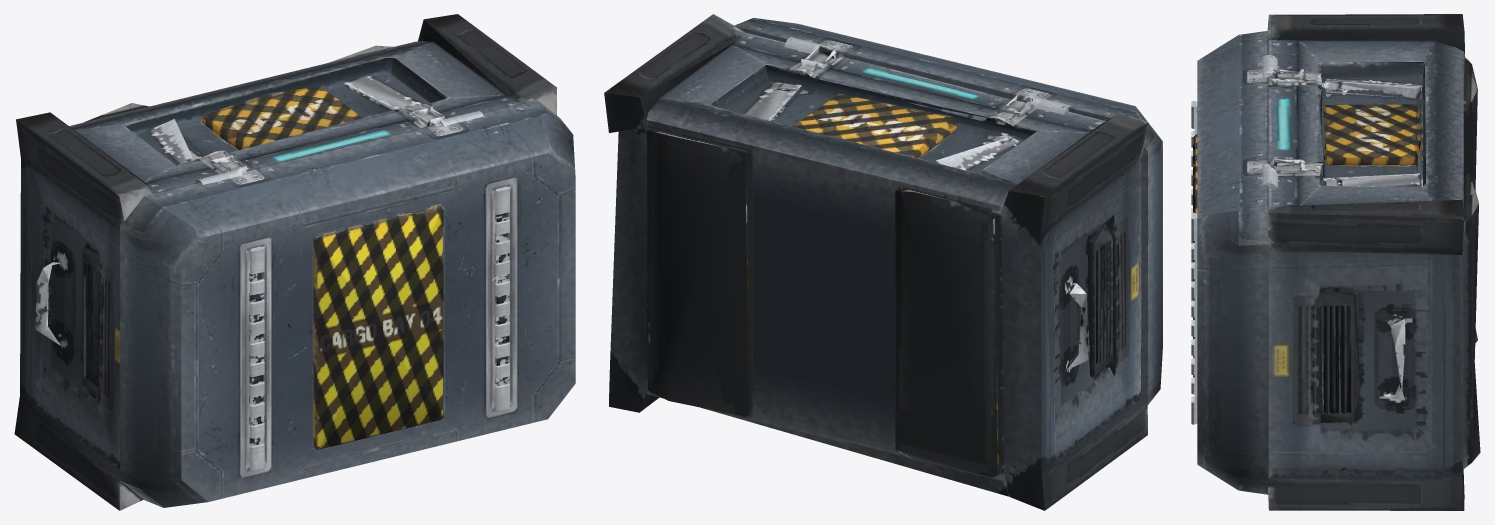
The model's file is sci_fi_crate_LOD1.glb.
3 renders of one model, left to right at view 1: azimuth 30°, elevation 25°; view 2: azimuth 150°, elevation 25°; view 3: azimuth 270°, elevation 25°, orthographic. The views are drawn at different scales.
Parts seen in each view (by area): view 1: lid_mesh, SM_sci_fi_crate_Body; view 2: SM_sci_fi_crate_Body, lid_mesh; view 3: SM_sci_fi_crate_Body, lid_mesh.
Boxes of the visible parts, bbox=[...] form: lid_mesh: bbox=[120, 100, 575, 507]; SM_sci_fi_crate_Body: bbox=[14, 14, 556, 510]; SM_sci_fi_crate_Body: bbox=[604, 14, 1148, 510]; lid_mesh: bbox=[734, 18, 1162, 404]; SM_sci_fi_crate_Body: bbox=[1267, 14, 1480, 510]; lid_mesh: bbox=[1191, 31, 1277, 494].
Size of the model in its own units: 0.952 by 0.6257 by 0.5471.
3 materials, 2 textured.
